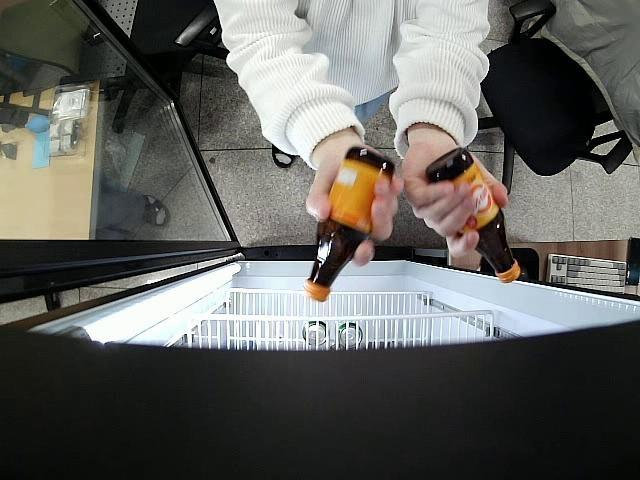17_vita500: (302, 144, 394, 302), (424, 146, 521, 285)
